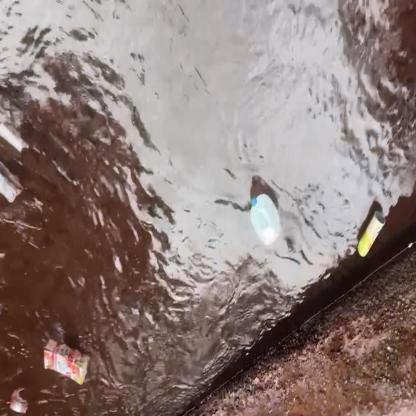Glass: (9, 394, 29, 416)
Metal: (356, 204, 389, 260)
Plastic: (247, 189, 283, 250), (0, 172, 22, 207)
